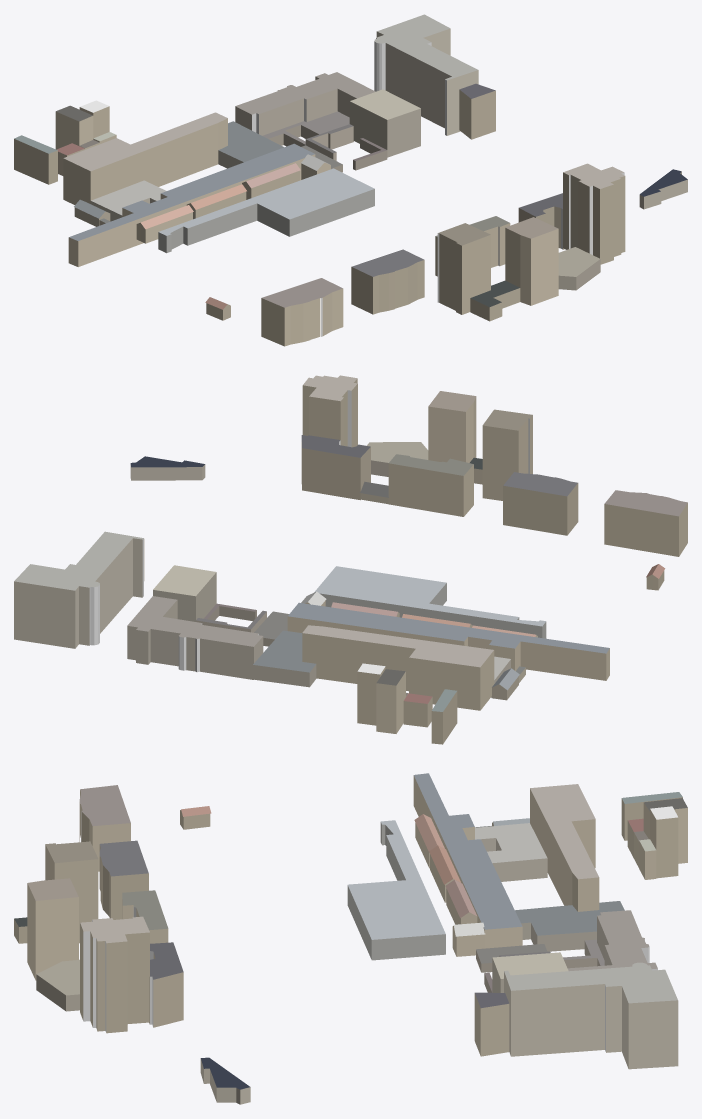
The picture shows the model from 3 angles, top to bottom: view 1: azimuth 30°, elevation 25°; view 2: azimuth 150°, elevation 25°; view 3: azimuth 270°, elevation 25°; orthographic projection. The views are drawn at different scales.
Visible parts, largest first — view 1: tuile; view 2: tuile; view 3: tuile.
Part boxes in pixels (box(x1,y1,x2,y2)): tuile: box(14, 14, 687, 346); tuile: box(14, 375, 687, 744); tuile: box(14, 773, 687, 1104).
Size of the model in its own units: 283 by 44.94 by 261.
